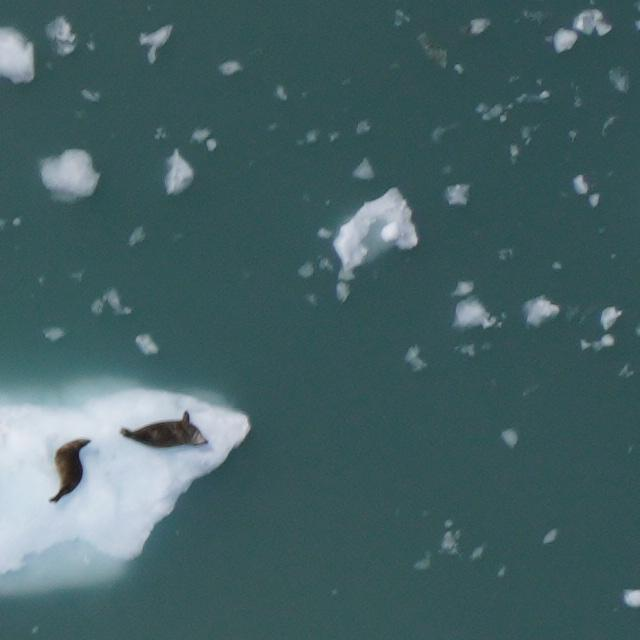seal: (42, 432, 91, 509), (122, 409, 208, 450)
